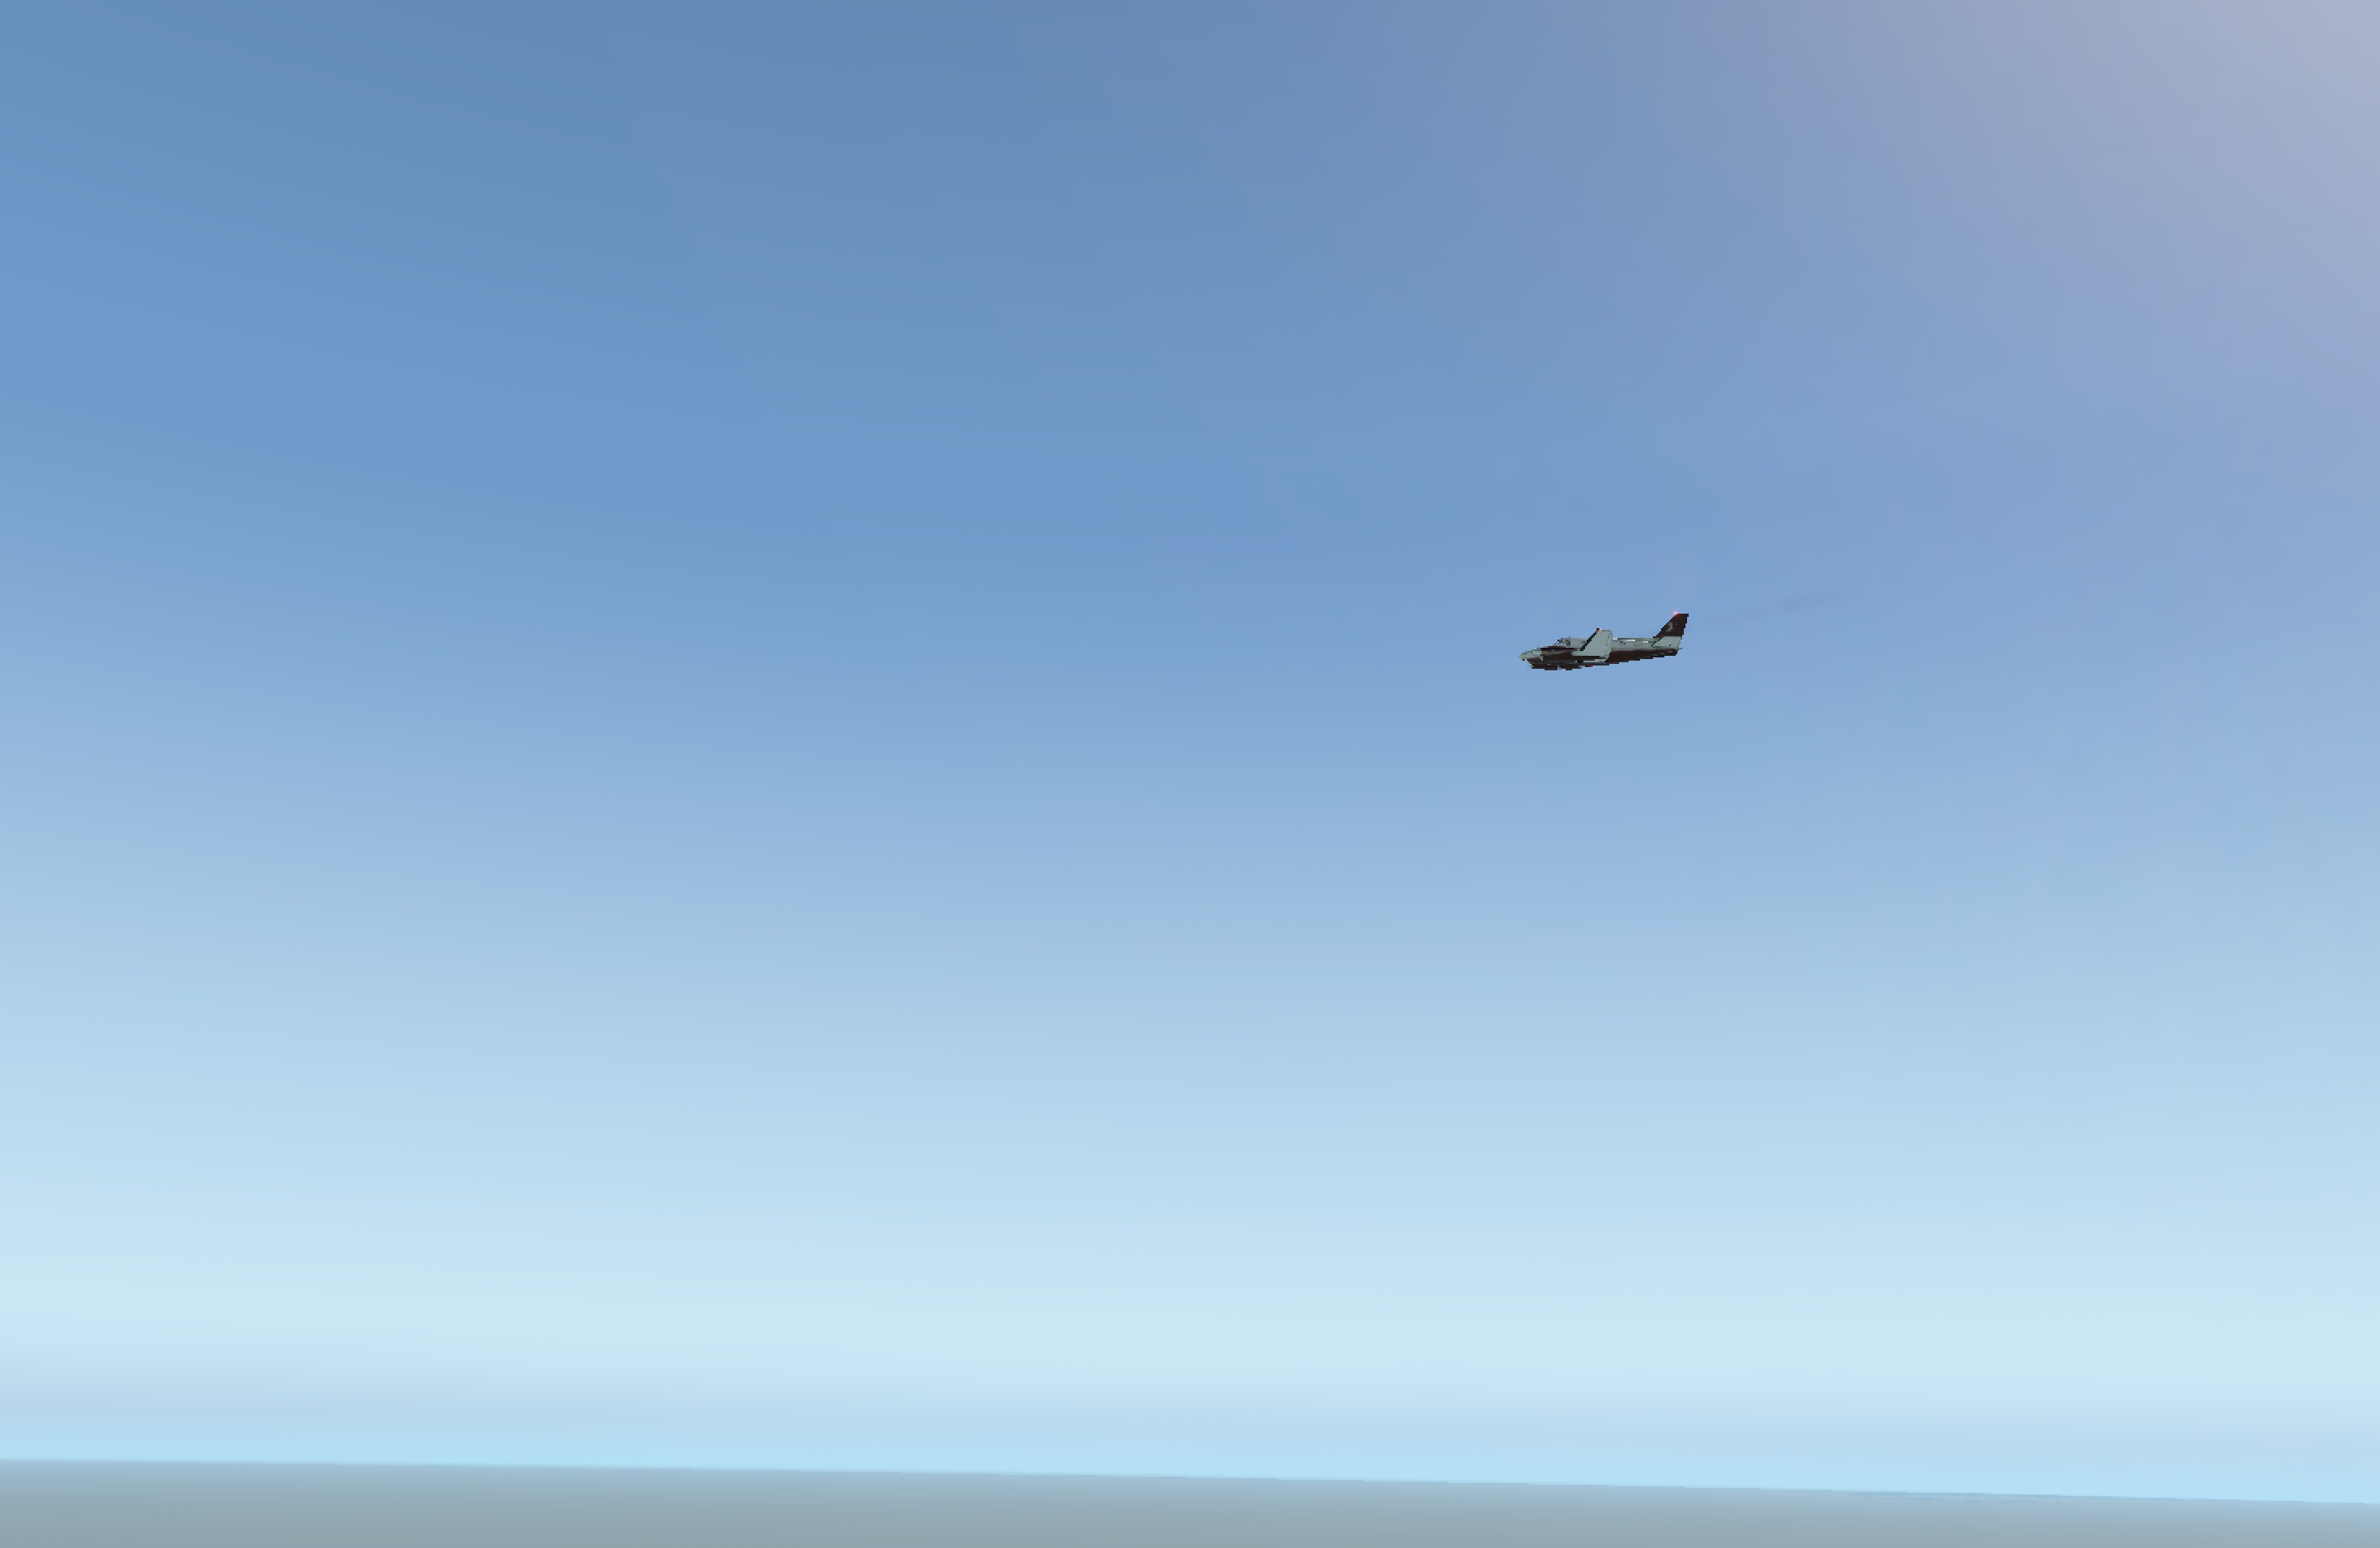aircraft: (1454, 618, 1695, 708)
